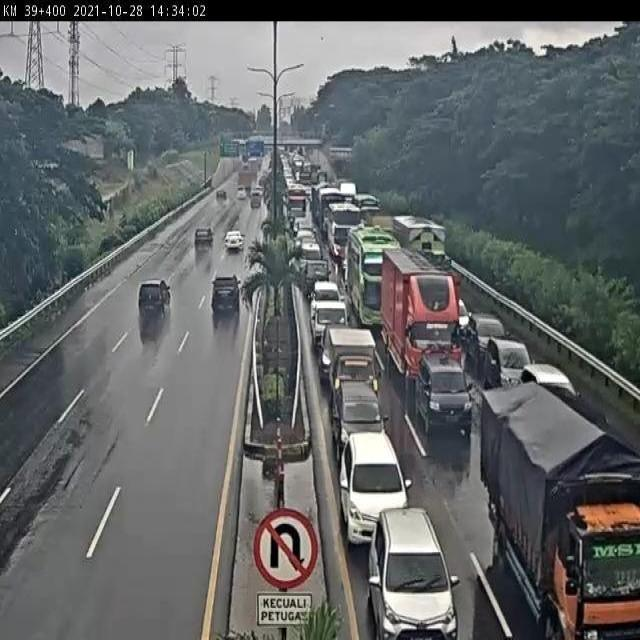Car: (373, 496, 460, 630), (339, 430, 411, 545), (309, 297, 347, 358), (519, 362, 577, 400), (137, 280, 172, 336), (211, 275, 242, 324), (310, 277, 341, 318), (194, 227, 214, 250)
Truck: (475, 379, 638, 638), (346, 226, 402, 327), (415, 352, 471, 437), (321, 326, 377, 410), (533, 383, 616, 438), (331, 378, 385, 459), (475, 335, 531, 392), (260, 295, 295, 384), (324, 201, 363, 264), (258, 371, 288, 431), (295, 240, 327, 290), (452, 313, 478, 367), (466, 313, 504, 347), (311, 185, 337, 230), (472, 338, 492, 386), (330, 391, 345, 452), (10, 344, 44, 368), (351, 194, 382, 219), (417, 246, 449, 270), (286, 184, 308, 217), (327, 147, 353, 174), (262, 449, 283, 482), (368, 214, 399, 236), (273, 459, 286, 510), (318, 343, 333, 385), (457, 296, 471, 340), (309, 299, 323, 342), (391, 215, 417, 238), (164, 158, 196, 174), (224, 230, 245, 251), (301, 241, 322, 262), (296, 228, 316, 250), (335, 251, 346, 291), (448, 340, 464, 366), (288, 257, 302, 286), (220, 134, 237, 154), (292, 219, 309, 238), (280, 153, 292, 179), (488, 497, 498, 528), (216, 629, 244, 640), (338, 181, 356, 198), (298, 164, 314, 183), (285, 206, 297, 231), (194, 242, 210, 260), (262, 175, 273, 199), (36, 160, 60, 171), (292, 157, 304, 178), (308, 164, 321, 183), (269, 152, 281, 172), (275, 185, 286, 206), (450, 272, 462, 291), (250, 190, 262, 208), (250, 136, 265, 150), (311, 182, 323, 199), (329, 147, 348, 157), (262, 140, 280, 150), (316, 170, 328, 184), (342, 194, 354, 208), (261, 217, 272, 232), (321, 122, 330, 140), (127, 149, 134, 172), (236, 186, 247, 200), (288, 151, 298, 166), (222, 129, 236, 139), (303, 160, 312, 175), (216, 189, 227, 201), (278, 136, 294, 144), (238, 157, 248, 169), (202, 177, 212, 189), (255, 184, 264, 197), (358, 219, 368, 230), (166, 284, 172, 302), (284, 146, 292, 158), (247, 156, 258, 164), (211, 275, 217, 288), (242, 153, 249, 164), (298, 146, 304, 156)
